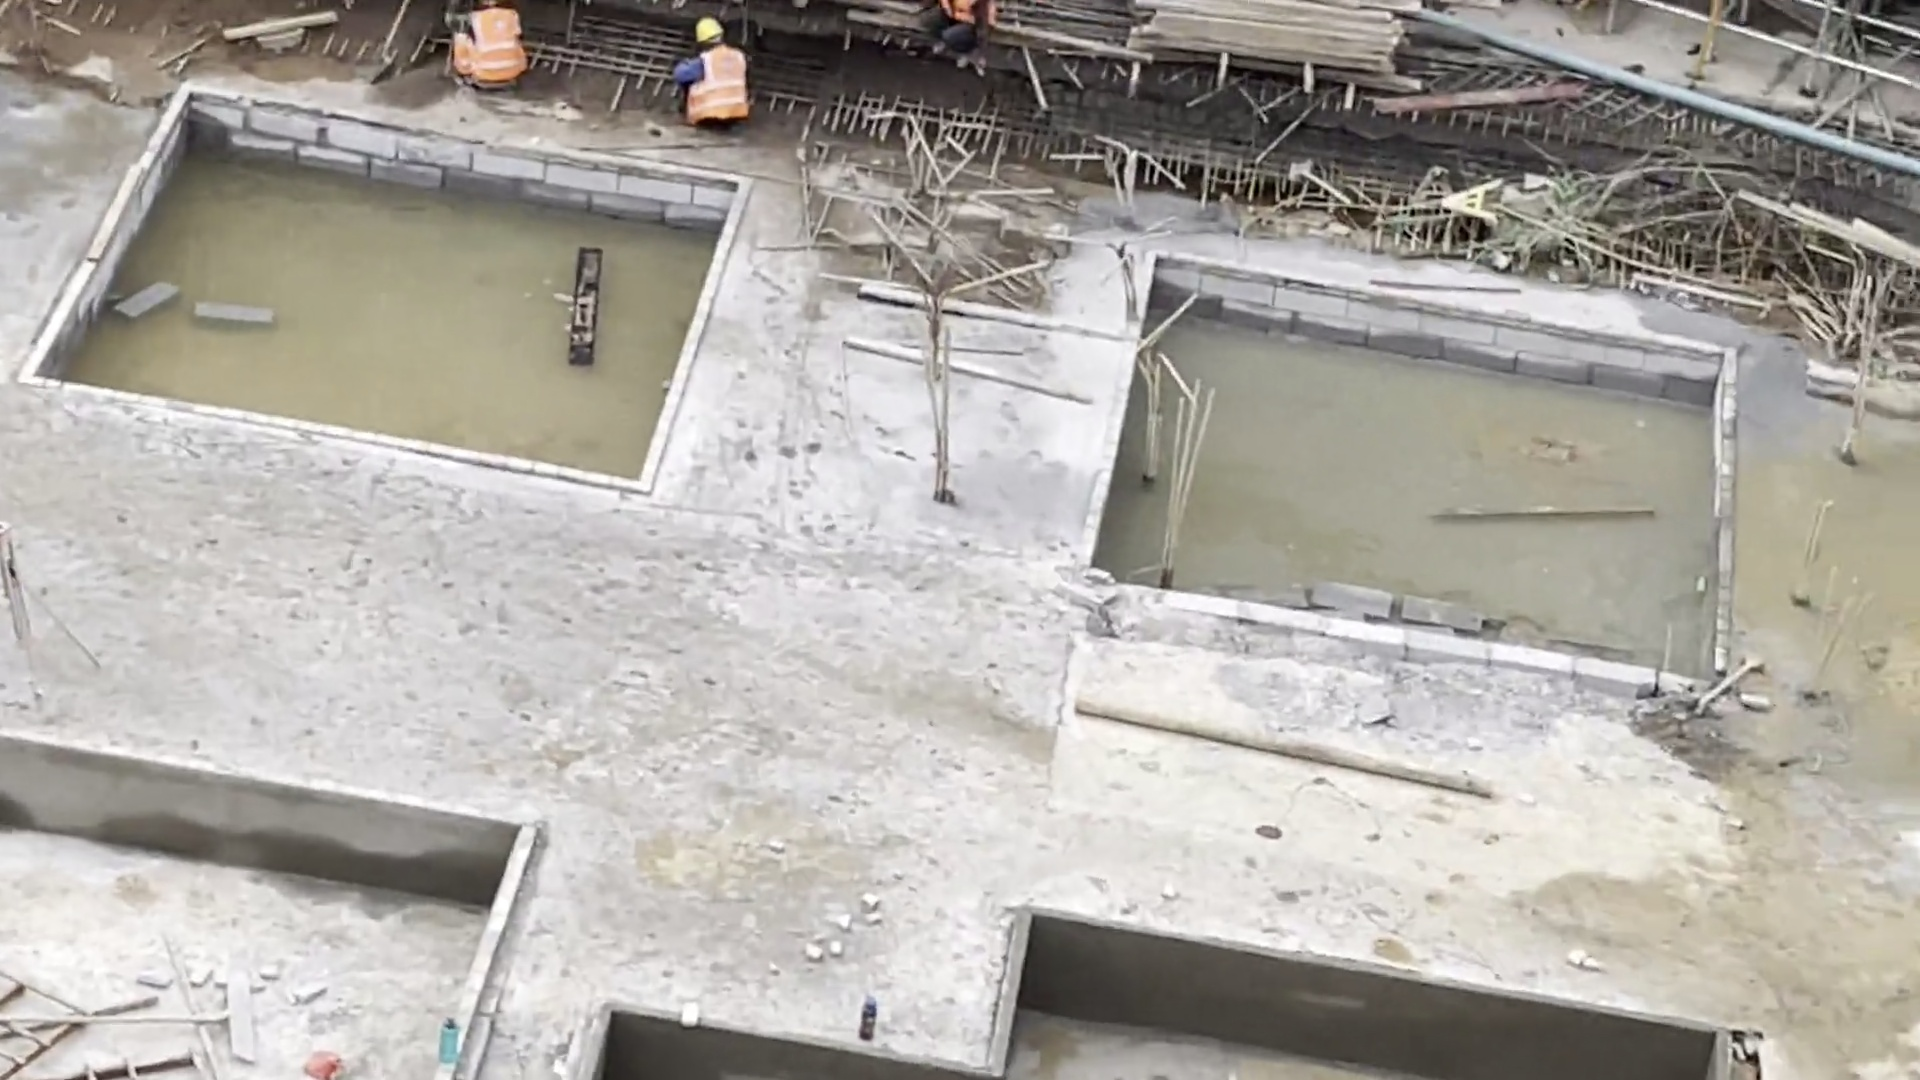helmet: (694, 15, 723, 45)
person: (671, 12, 758, 136), (448, 6, 535, 96), (927, 1, 1000, 77)
vest: (677, 43, 753, 128), (469, 5, 528, 86)
